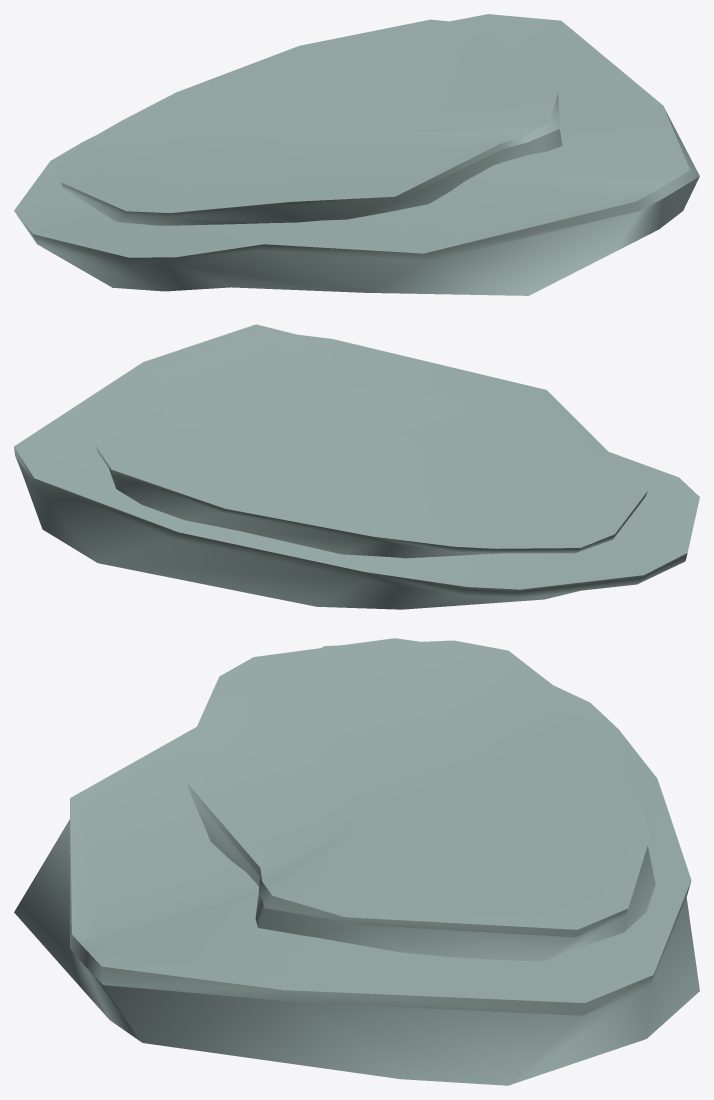
Rendered from SM_Stoneformation_Flats.fbx.
3 views of the same model, one above another, from view 1: azimuth 30°, elevation 25°; view 2: azimuth 150°, elevation 25°; view 3: azimuth 270°, elevation 25° (orthographic). The views are drawn at different scales.
Parts seen in each view (by area): view 1: Stoneformation_Flat_Big, Stoneformation_Flat_Small; view 2: Stoneformation_Flat_Small, Stoneformation_Flat_Big; view 3: Stoneformation_Flat_Big, Stoneformation_Flat_Small.
Part boxes in pixels (box(x1,y1,x2,y2)): Stoneformation_Flat_Big: box(14, 14, 699, 295); Stoneformation_Flat_Small: box(52, 19, 562, 225); Stoneformation_Flat_Small: box(96, 373, 647, 558); Stoneformation_Flat_Big: box(14, 324, 699, 609); Stoneformation_Flat_Big: box(14, 638, 699, 1085); Stoneformation_Flat_Small: box(187, 640, 655, 961).
Bounding box in the file's own units: 4151 × 559 × 3039.
